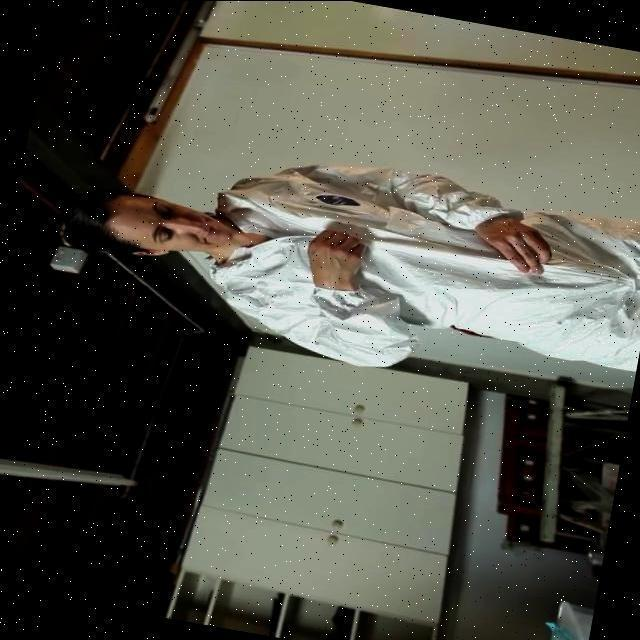no_apron: (300, 224, 386, 306), (467, 204, 562, 276)
no_hairnet: (171, 215, 252, 258)
